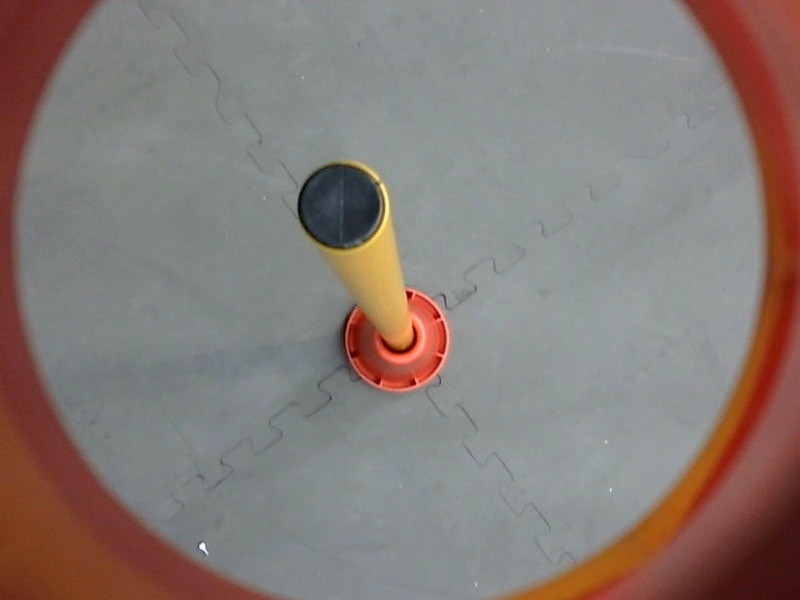tip: (287, 154, 395, 256)
